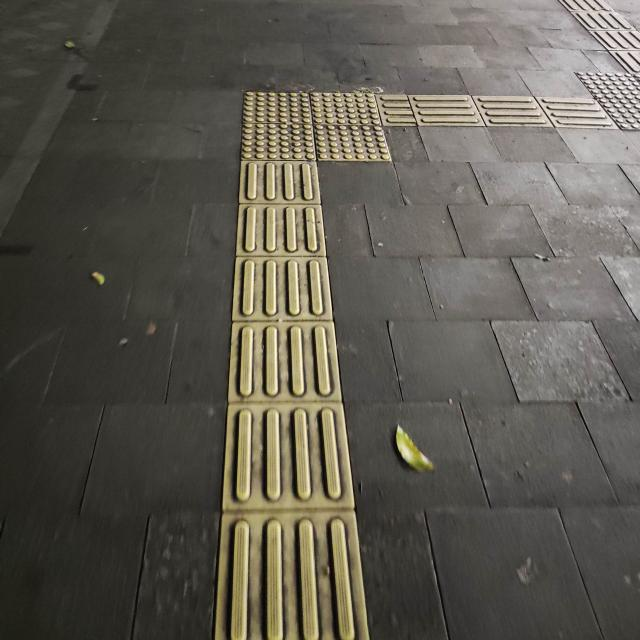kanan: (199, 50, 499, 208)
